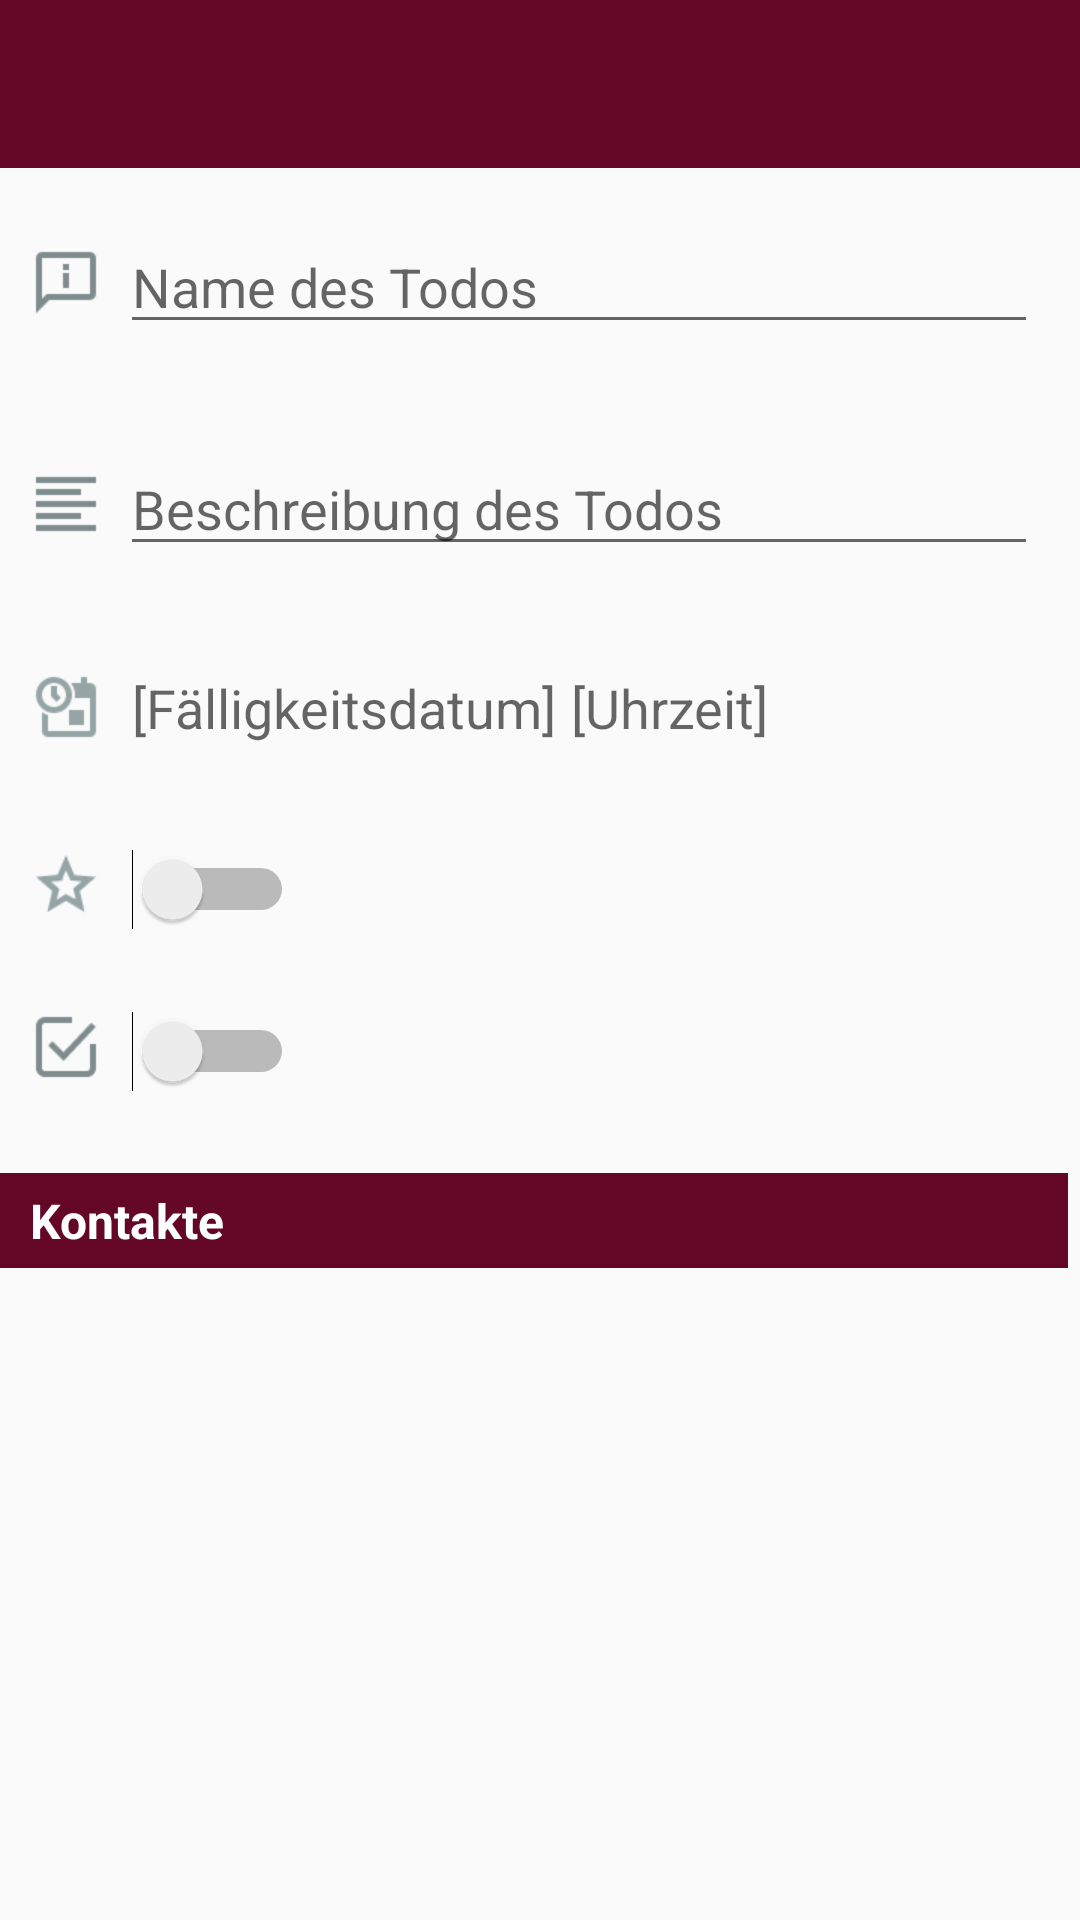

Where to tap for icons on this 1080x1920 app screen, as (x,y):
checked: (66,1047)
date time: (66,707)
description: (66,504)
informationicon: (66,282)
star: (66,884)
